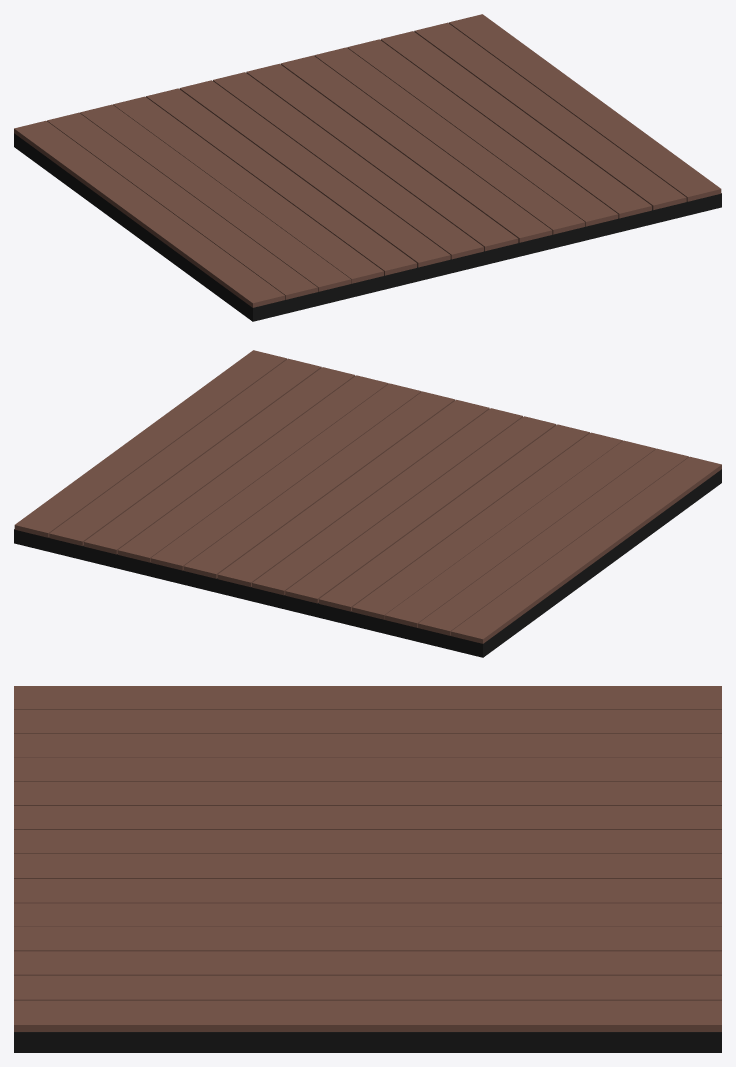
File: Boden.fbx
The picture shows the model from 3 angles, top to bottom: view 1: azimuth 30°, elevation 25°; view 2: azimuth 150°, elevation 25°; view 3: azimuth 270°, elevation 25°; orthographic projection. The views are drawn at different scales.
Visible parts, largest first — view 1: mesh_894712410, mesh_446119940, mesh_1018231651, mesh_68748807, mesh_491921601, mesh_1114356015, mesh_1504776840, mesh_853287415, mesh_2137758736, mesh_391499732, mesh_1865269823, mesh_1276457110 (+3 smaller); view 2: mesh_894712410, mesh_446119940, mesh_1018231651, mesh_68748807, mesh_491921601, mesh_1114356015, mesh_1504776840, mesh_853287415, mesh_2137758736, mesh_391499732, mesh_1865269823, mesh_1276457110 (+3 smaller); view 3: mesh_1018231651, mesh_68748807, mesh_2137758736, mesh_1916459543, mesh_1865269823, mesh_1114356015, mesh_491921601, mesh_1528350751, mesh_1504776840, mesh_446119940, mesh_848133736, mesh_391499732 (+3 smaller).
Boxes of the visible parts, x1,y1,x2,y2 form: mesh_894712410: (14,133,721,321); mesh_446119940: (14,120,284,307); mesh_1018231651: (448,14,721,201); mesh_68748807: (414,22,686,209); mesh_491921601: (246,63,518,251); mesh_1114356015: (280,55,552,242); mesh_1504776840: (380,31,651,218); mesh_853287415: (179,80,450,267); mesh_2137758736: (79,104,351,291); mesh_391499732: (213,72,483,259); mesh_1865269823: (146,88,416,275); mesh_1276457110: (314,47,585,234); mesh_894712410: (14,469,721,657); mesh_446119940: (451,456,721,643); mesh_1018231651: (14,350,287,537); mesh_68748807: (49,358,321,545); mesh_491921601: (217,399,489,587); mesh_1114356015: (183,391,455,578); mesh_1504776840: (84,367,355,554); mesh_853287415: (285,416,556,603); mesh_2137758736: (384,440,656,627); mesh_391499732: (252,408,522,595); mesh_1865269823: (319,424,589,611); mesh_1276457110: (150,383,421,570); mesh_1018231651: (14,1000,721,1031); mesh_68748807: (14,975,721,1000); mesh_2137758736: (14,733,721,757); mesh_1916459543: (14,757,721,781); mesh_1865269823: (14,781,721,805); mesh_1114356015: (14,879,721,903); mesh_491921601: (14,854,721,878); mesh_1528350751: (14,927,721,951); mesh_1504776840: (14,951,721,975); mesh_446119940: (14,686,721,709); mesh_848133736: (14,710,721,733); mesh_391499732: (14,830,721,853).
Bounding box in the file's own units: 847 × 32 × 747.
